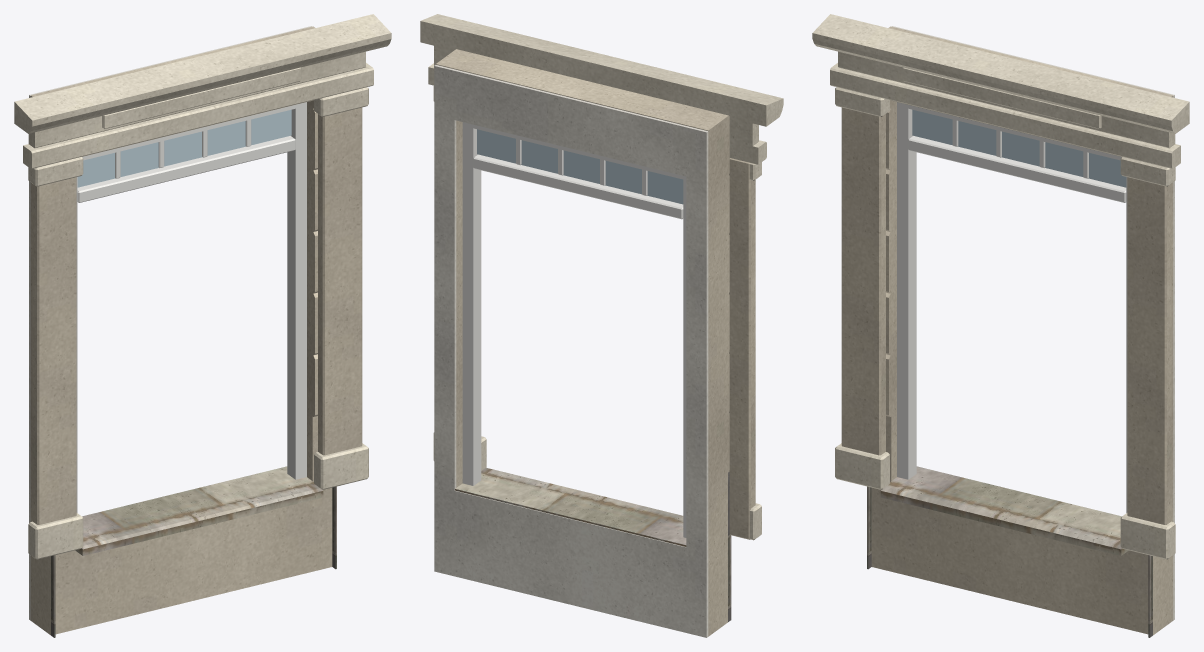
Rendered from pv_g_door.glb.
The picture shows the model from 3 angles, left to right: view 1: azimuth 30°, elevation 25°; view 2: azimuth 150°, elevation 25°; view 3: azimuth 330°, elevation 25°; orthographic projection. The views are drawn at different scales.
Visible parts, largest first — view 1: pv_g_door_ashlar, pv_g_door_trim, pv_g_door_frame, pv_g_door_stone2, pv_g_door_glass, pv_g_door_plaster, pv_g_door_plinth; view 2: pv_g_door_plaster, pv_g_door_ashlar, pv_g_door_trim, pv_g_door_frame, pv_g_door_stone2, pv_g_door_glass; view 3: pv_g_door_ashlar, pv_g_door_trim, pv_g_door_frame, pv_g_door_stone2, pv_g_door_glass, pv_g_door_plaster, pv_g_door_plinth.
Boxes of the visible parts, <box> form: pv_g_door_ashlar: <box>30,26,362,635</box>; pv_g_door_trim: <box>14,14,391,559</box>; pv_g_door_frame: <box>76,102,306,512</box>; pv_g_door_stone2: <box>75,466,323,555</box>; pv_g_door_glass: <box>77,109,291,187</box>; pv_g_door_plaster: <box>29,26,311,620</box>; pv_g_door_plinth: <box>51,486,336,637</box>; pv_g_door_plaster: <box>434,65,708,637</box>; pv_g_door_ashlar: <box>435,49,755,636</box>; pv_g_door_trim: <box>420,14,783,540</box>; pv_g_door_frame: <box>462,122,686,537</box>; pv_g_door_stone2: <box>455,467,686,546</box>; pv_g_door_glass: <box>477,129,683,204</box>; pv_g_door_ashlar: <box>841,26,1173,635</box>; pv_g_door_trim: <box>812,14,1189,559</box>; pv_g_door_frame: <box>897,102,1127,512</box>; pv_g_door_stone2: <box>880,466,1128,555</box>; pv_g_door_glass: <box>912,109,1126,187</box>; pv_g_door_plaster: <box>892,26,1174,620</box>; pv_g_door_plinth: <box>867,486,1152,637</box>.
Bounding box in the file's own units: 2.54 × 3.68 × 0.51.
Materials: 7 (5 with a texture image).
